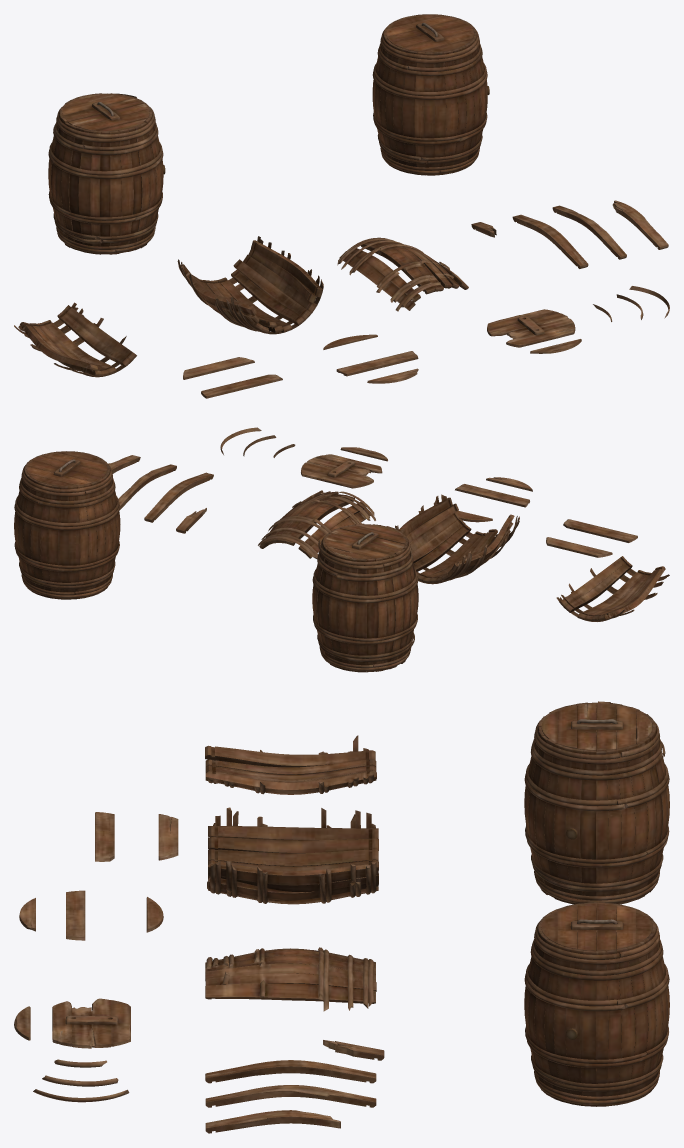
File: wooden_barrels_01.glb
The picture shows the model from 3 angles, top to bottom: view 1: azimuth 30°, elevation 25°; view 2: azimuth 150°, elevation 25°; view 3: azimuth 270°, elevation 25°; orthographic projection. The views are drawn at different scales.
Visible parts, largest first — view 1: wooden_barrels_01_piece01, wooden_barrels_01_barrel02, wooden_barrels_01_barrel01; view 2: wooden_barrels_01_piece01, wooden_barrels_01_barrel02, wooden_barrels_01_barrel01; view 3: wooden_barrels_01_piece01, wooden_barrels_01_barrel01, wooden_barrels_01_barrel02.
Boxes of the visible parts, <box> form: wooden_barrels_01_piece01: <box>14,200,669,398</box>; wooden_barrels_01_barrel02: <box>48,93,165,254</box>; wooden_barrels_01_barrel01: <box>372,14,489,175</box>; wooden_barrels_01_piece01: <box>108,427,669,621</box>; wooden_barrels_01_barrel02: <box>312,523,418,672</box>; wooden_barrels_01_barrel01: <box>14,451,120,599</box>; wooden_barrels_01_piece01: <box>14,735,384,1133</box>; wooden_barrels_01_barrel01: <box>524,902,669,1106</box>; wooden_barrels_01_barrel02: <box>524,701,669,904</box>.
Size of the model in its own units: 4.44 by 0.9567 by 3.34.
Materials: 3 (3 with a texture image).
